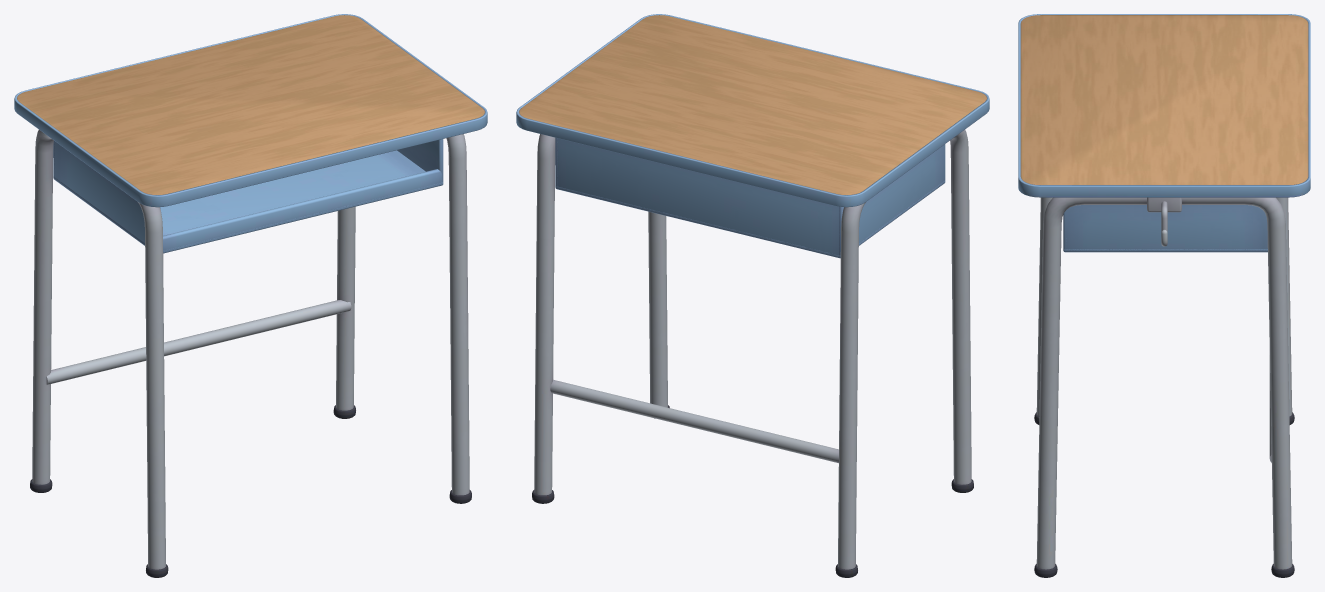
Rendered from school-desk.glb.
3 renders of one model, left to right at view 1: azimuth 30°, elevation 25°; view 2: azimuth 150°, elevation 25°; view 3: azimuth 270°, elevation 25°, orthographic. The views are drawn at different scales.
Parts seen in each view (by area): view 1: school-desk_body; view 2: school-desk_body; view 3: school-desk_body.
Boxes of the visible parts, x1,y1,x2,y2 form: school-desk_body: (14, 14, 487, 577); school-desk_body: (516, 14, 989, 577); school-desk_body: (1018, 14, 1310, 577).
Size of the model in its own units: 0.7435 by 0.76 by 0.506.
Materials: 1 (1 with a texture image).
